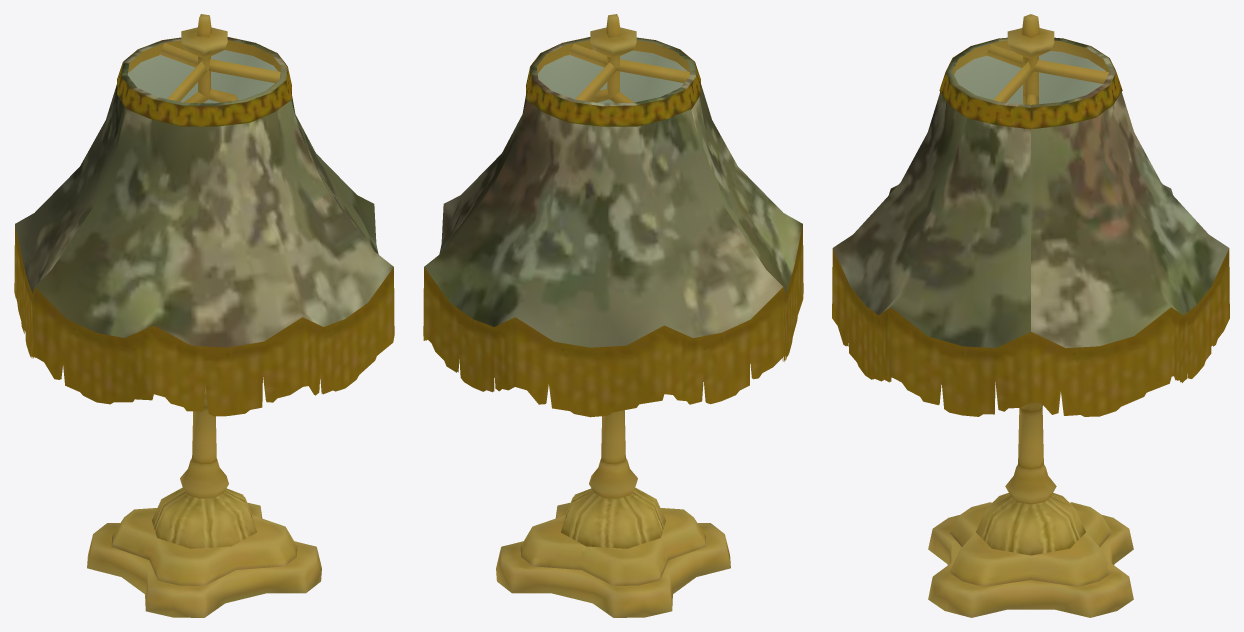
3 renders of one model, left to right at view 1: azimuth 30°, elevation 25°; view 2: azimuth 150°, elevation 25°; view 3: azimuth 270°, elevation 25°, orthographic.
Size of the model in its own units: 6.41 by 9.91 by 6.41.
2 materials, 2 textured.
